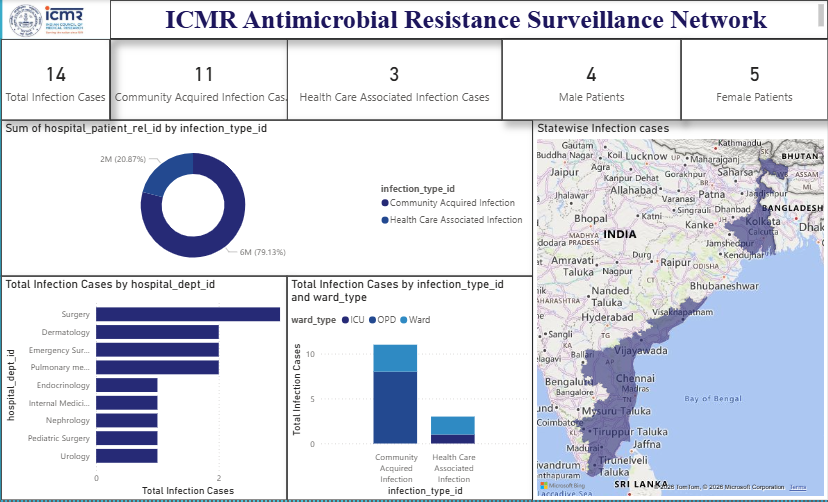

Layout of this report page (visuals, bound fields, positions):
{"tool":"powerbi","page":{"name":"Page 1","canvas":[1280,720],"ordinal":0},"visuals":[{"type":"card","fields":{"Values":["patient_repos.CAI Cases"]},"box":[207.4,56.2,270.7,116.6],"z":0},{"type":"card","fields":{"Values":["hospital_repos (2).Health Care Associated Infection Cases"]},"box":[462.2,56.2,309.6,116.6],"z":1000},{"type":"donutChart","fields":{"Category":["hospital_repos (2).infection_type_id"],"Y":["Sum(hospital_repos (2).hospital_patient_rel_id)"]},"box":[50.4,172.8,766.1,224.6],"z":2000},{"type":"card","fields":{"Values":["hospital_repos (2).Total Infection Cases"]},"box":[50.4,56.2,157,116.6],"z":3000},{"type":"barChart","fields":{"Category":["hospital_repos (2).hospital_dept_id"],"Y":["hospital_repos (2).Total Infection Cases"]},"box":[50.4,397.4,411.8,322.6],"z":4000},{"type":"columnChart","fields":{"Y":["hospital_repos (2).Total Infection Cases"],"Category":["hospital_repos (2).infection_type_id"],"Series":["hospital_repos (2).ward_type"]},"box":[462.2,397.4,354.2,322.6],"z":5000},{"type":"actionButton","box":[0,0,100,40],"z":6000},{"type":"filledMap","title":"Statewise Infection cases","fields":{"Category":["patient_repos.state"]},"box":[816.5,172.8,424.8,547.2],"z":7000},{"type":"textbox","box":[207.4,0,1033.9,56.2],"z":8000},{"type":"card","fields":{"Values":["hospital_repos (2).Male Patients"]},"box":[771.8,56.2,257.8,116.6],"z":9000},{"type":"card","fields":{"Values":["hospital_repos (2).Female Patients"]},"box":[1029.6,56.2,211.7,116.6],"z":10000},{"type":"image","box":[27.4,0,204.5,56.2],"z":10001}]}

Visuals, with their boxes on the page's 1280x720 design canvas (x1, y1, x2, y2). These are canvas units, not pixel positions in the 828x502 screenshot, which may show the page scaled, cropped or inside an application window:
card - patient_repos.CAI Cases: bbox(207, 56, 478, 173)
card - hospital_repos (2).Health Care Associated Infection Cases: bbox(462, 56, 772, 173)
donutChart - hospital_repos (2).infection_type_id x Sum(hospital_repos (2).hospital_patient_rel_id): bbox(50, 173, 816, 397)
card - hospital_repos (2).Total Infection Cases: bbox(50, 56, 207, 173)
barChart - hospital_repos (2).hospital_dept_id x hospital_repos (2).Total Infection Cases: bbox(50, 397, 462, 720)
columnChart - hospital_repos (2).Total Infection Cases x hospital_repos (2).infection_type_id: bbox(462, 397, 816, 720)
actionButton: bbox(0, 0, 100, 40)
"Statewise Infection cases" filledMap: bbox(816, 173, 1241, 720)
textbox: bbox(207, 0, 1241, 56)
card - hospital_repos (2).Male Patients: bbox(772, 56, 1030, 173)
card - hospital_repos (2).Female Patients: bbox(1030, 56, 1241, 173)
image: bbox(27, 0, 232, 56)
